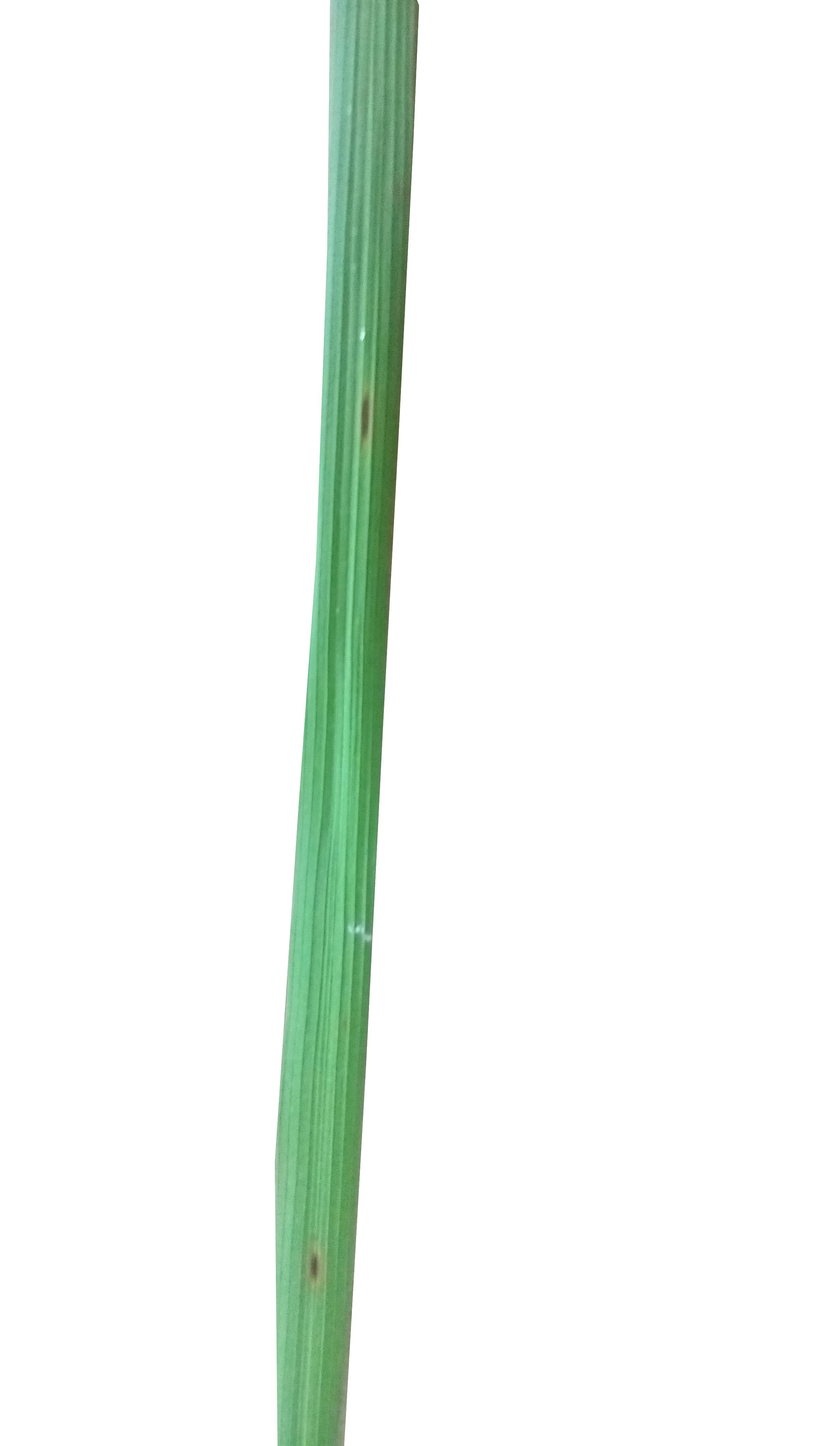Brown spot: (352, 369, 378, 471), (300, 1233, 335, 1306)
